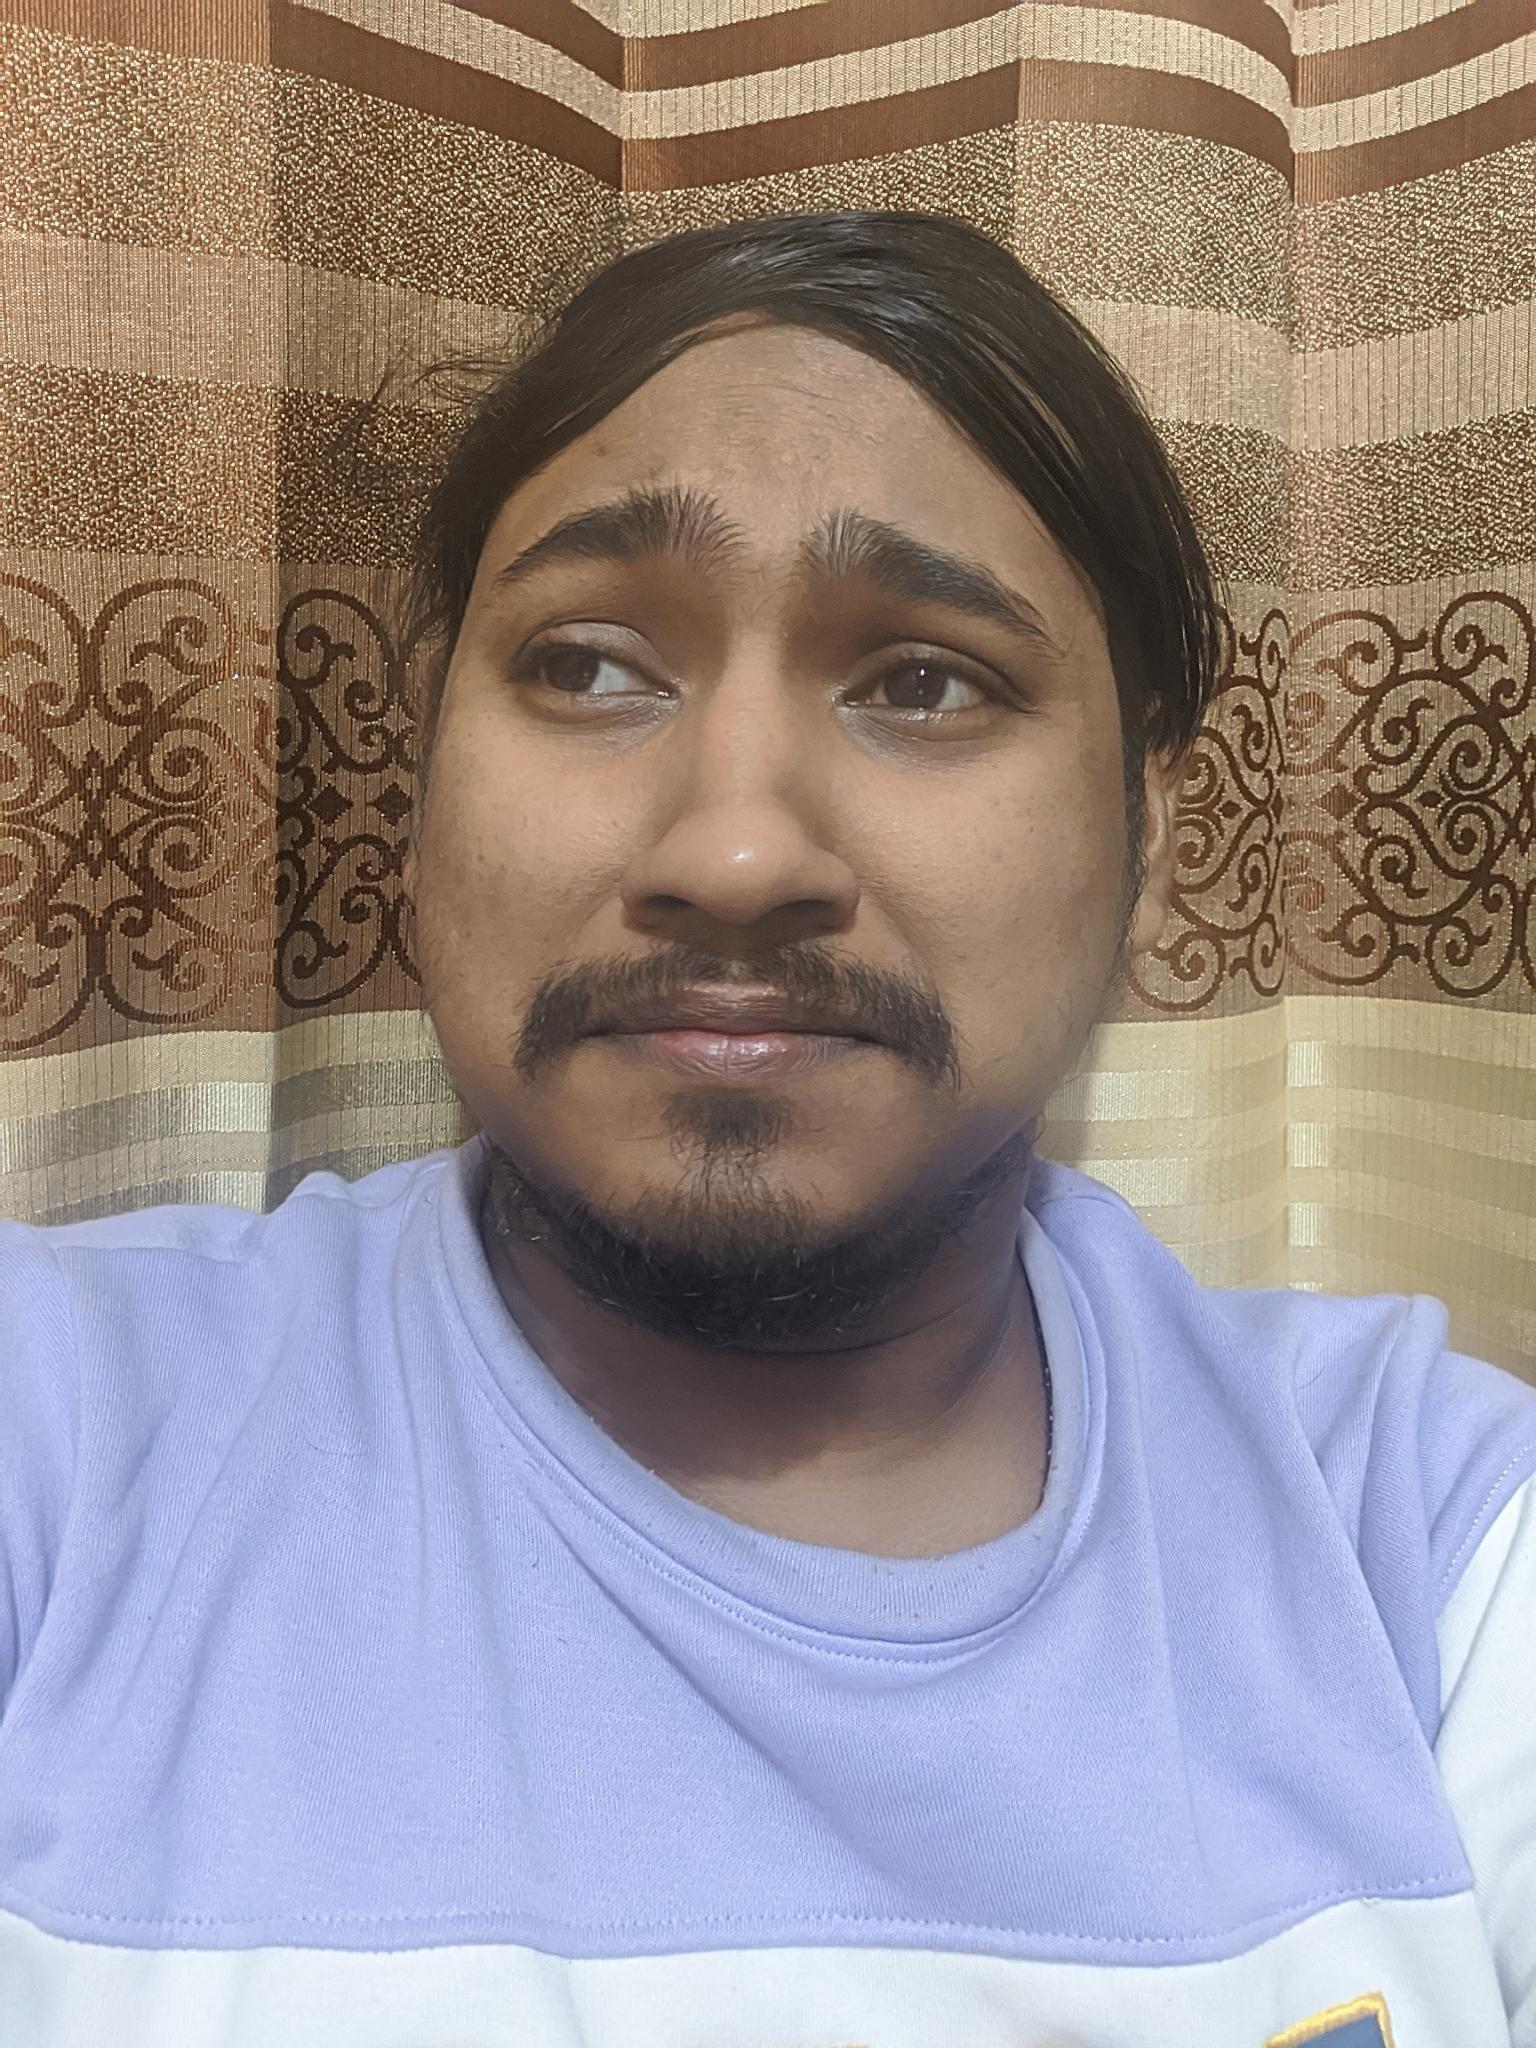Sad: (445, 423, 1105, 1284)
